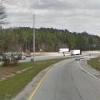Tree: (39, 22, 66, 51)
